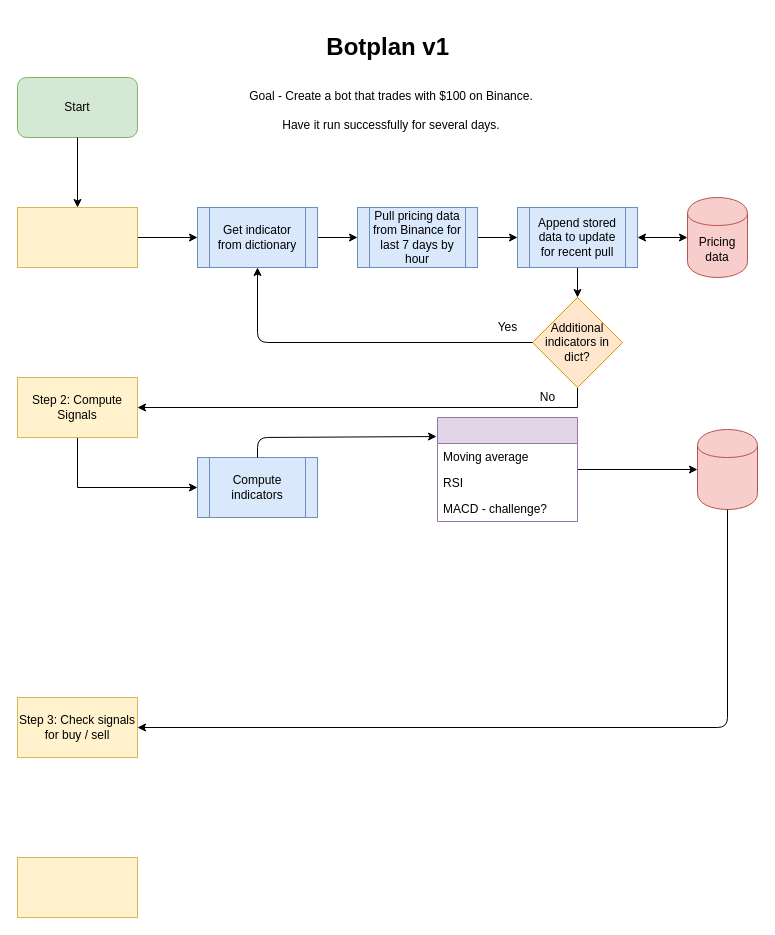
This 775x935 diagram has some shape labels left out. The shapes that lost their labels are listed below. From the top down, each one's box as (x1, y1, x2, y2) in pixels, then its label:
(16, 206, 138, 268): Step 1: Pull pricing data
(436, 416, 578, 522): Indicators list
(696, 428, 758, 510): Signal data
(16, 856, 138, 918): Step 4: Check portfolio
